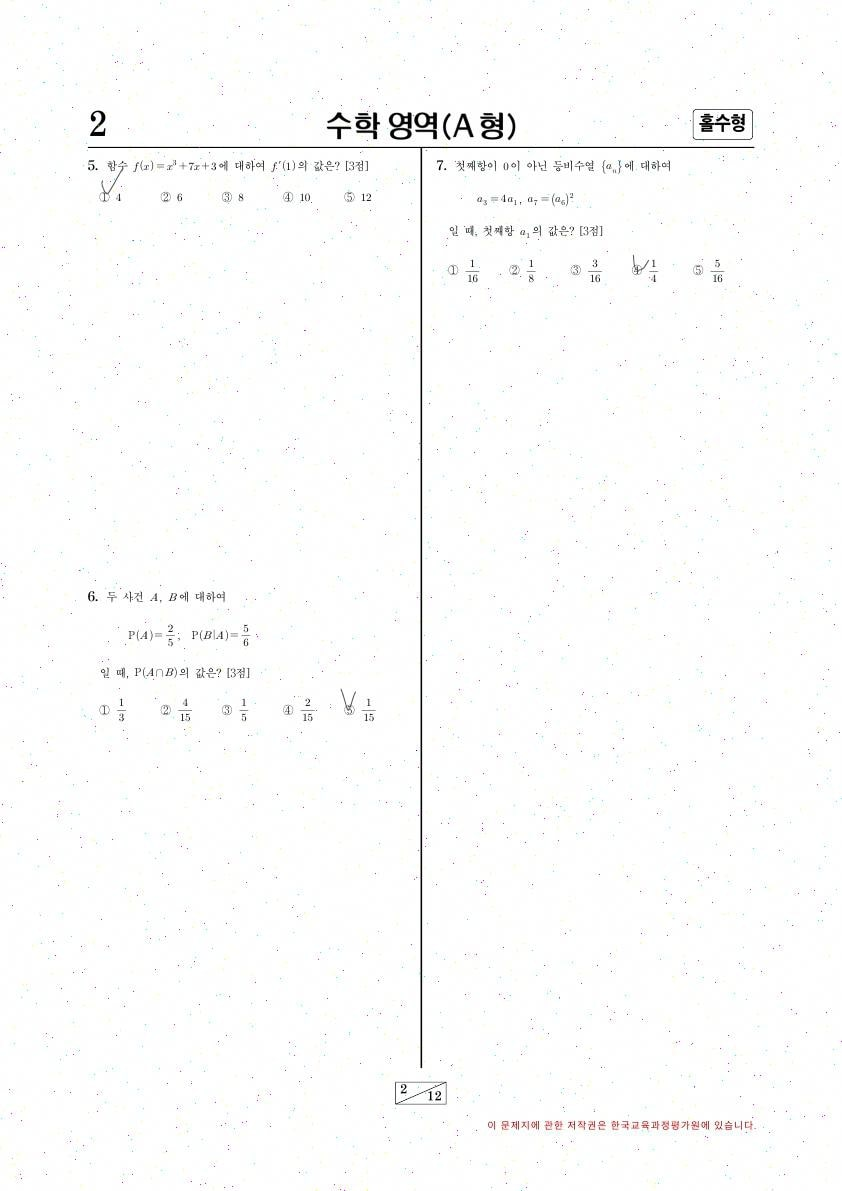question: (73, 576, 387, 748), (428, 151, 750, 301), (76, 152, 391, 227)
